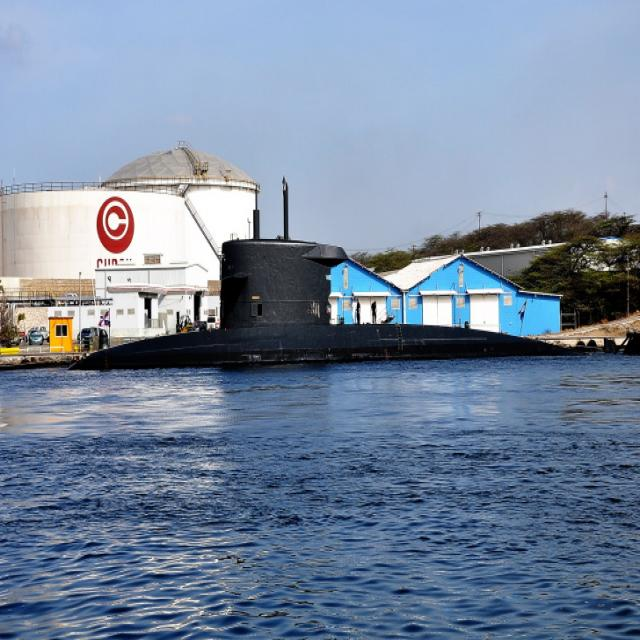submarine: (72, 182, 640, 369)
